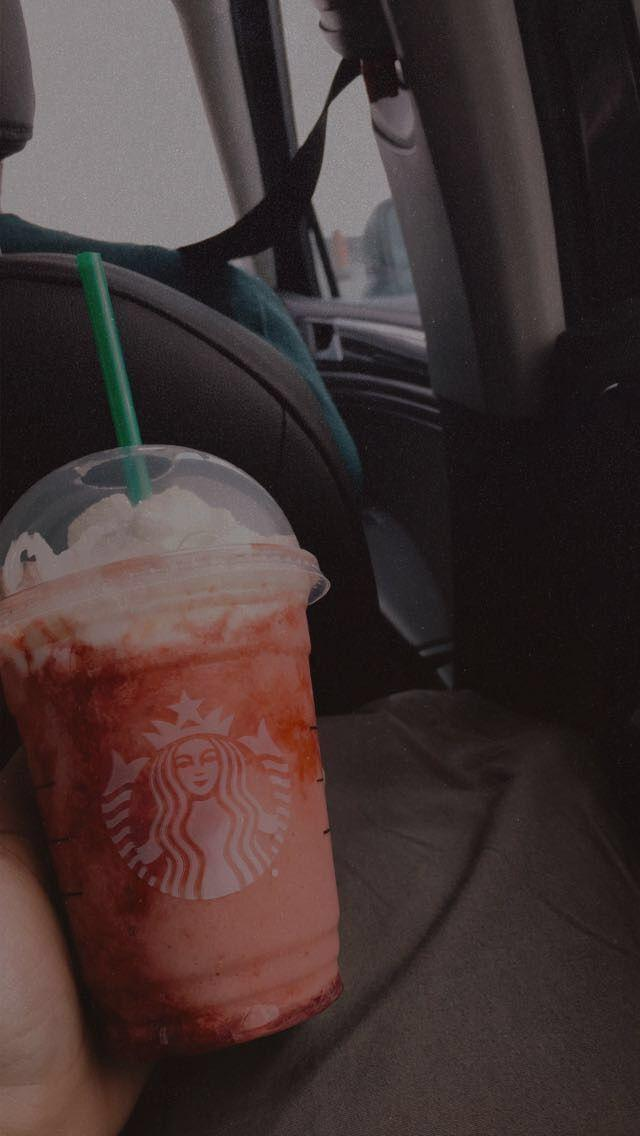cup-disposable: (0, 441, 345, 1048)
